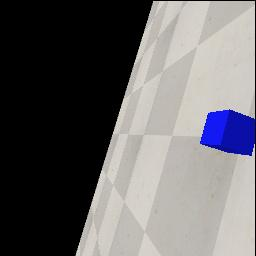box: (200, 109, 255, 156)
